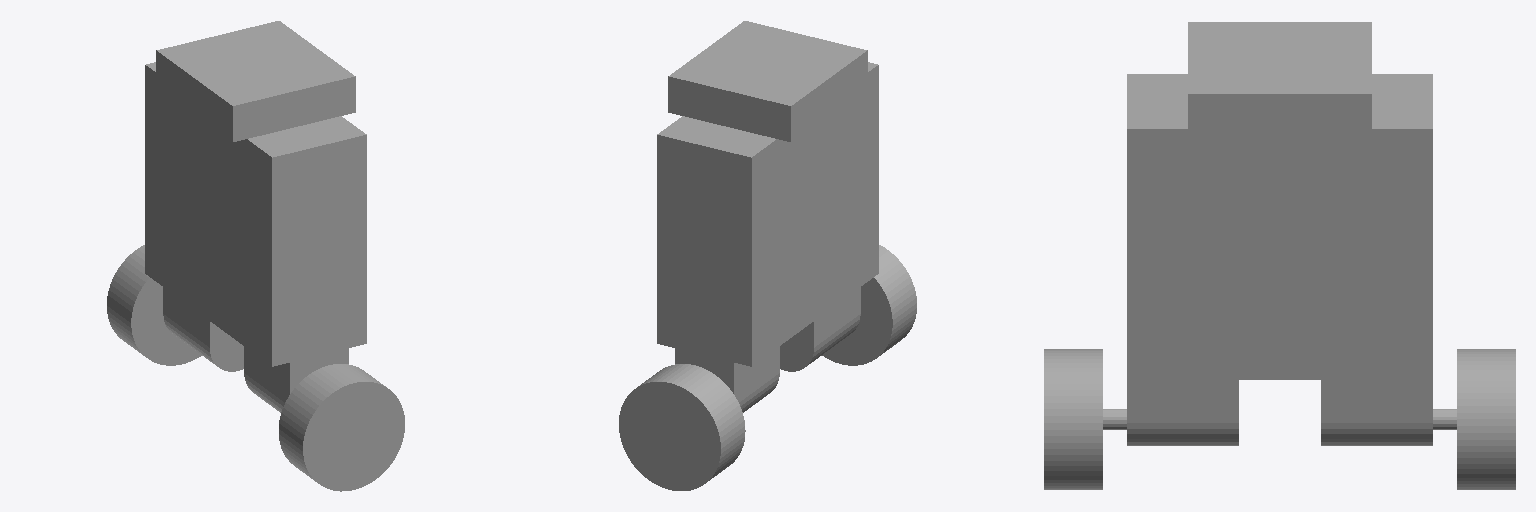
robot.urdf — balance_robot:
<?xml version="1.0" encoding="utf-8"?>
<!-- =================================================================================== -->
<!-- |    This document was autogenerated by xacro from balance_robot_simple.urdf.xacro | -->
<!-- |    EDITING THIS FILE BY HAND IS NOT RECOMMENDED                                 | -->
<!-- =================================================================================== -->
<robot name="balance_robot">
  <material name="silver">
    <color rgba="0.700 0.700 0.700 1.000"/>
  </material>
  <material name="Black">
    <color rgba="0.0 0.0 0.0 1.0"/>
  </material>
  <material name="Blue">
    <color rgba="0.0 0.0 0.8 1.0"/>
  </material>
  <material name="Green">
    <color rgba="0.0 0.8 0.0 1.0"/>
  </material>
  <material name="Gray">
    <color rgba="0.7 0.7 0.7 1.0"/>
  </material>
  <material name="DarkGray">
    <color rgba="0.3 0.3 0.3 1.0"/>
  </material>
  <material name="Red">
    <color rgba="0.8 0.0 0.0 1.0"/>
  </material>
  <material name="White">
    <color rgba="1.0 1.0 1.0 1.0"/>
  </material>
  <material name="Yellow">
    <color rgba="0.8 0.8 0.0 1.0"/>
  </material>
  <transmission name="left_wheel_joint_trans" type="SimpleTransmission">
    <type>transmission_interface/SimpleTransmission</type>
    <joint name="left_wheel_joint">
      <hardwareInterface>hardware_interface/VelocityJointInterface</hardwareInterface>
    </joint>
    <actuator name="left_wheel_motor">
      <mechanicalReduction>1</mechanicalReduction>
    </actuator>
  </transmission>
  <transmission name="right_wheel_joint_trans" type="SimpleTransmission">
    <type>transmission_interface/SimpleTransmission</type>
    <joint name="right_wheel_joint">
      <hardwareInterface>hardware_interface/VelocityJointInterface</hardwareInterface>
    </joint>
    <actuator name="right_wheel_motor">
      <mechanicalReduction>1</mechanicalReduction>
    </actuator>
  </transmission>
  <gazebo>
    <plugin filename="libgazebo_ros_control.so" name="gazebo_ros_control">
      <robotNamespace>/balance_robot</robotNamespace>
      <robotSimType>gazebo_ros_control/DefaultRobotHWSim</robotSimType>
      <legacyModeNS>true</legacyModeNS>
    </plugin>
  </gazebo>
  <gazebo>
    <plugin filename="libgazebo_ros_p3d.so" name="ground_truth">
      <frameName>world</frameName>
      <bodyName>base_link</bodyName>
      <topicName>/tracker</topicName>
      <updateRate>10.0</updateRate>
    </plugin>
  </gazebo>
  <gazebo reference="base_link">
    <material>Gazebo/Gray</material>
    <mu1>1.0</mu1>
    <mu2>1.0</mu2>
    <!--
  <selfCollide>true</selfCollide>
  <gravity>true</gravity>
  -->
  </gazebo>
  <gazebo reference="imu_link">
    <gravity>true</gravity>
    <sensor name="imu_sensor" type="imu">
      <always_on>true</always_on>
      <update_rate>100</update_rate>
      <visualize>true</visualize>
      <topic>data</topic>
      <plugin filename="libgazebo_ros_imu_sensor.so" name="imu_plugin">
        <topicName>imu/data</topicName>
        <bodyName>imu_link</bodyName>
        <updateRateHZ>10.0</updateRateHZ>
        <gaussianNoise>0.0</gaussianNoise>
        <xyzOffset>0 0 0</xyzOffset>
        <rpyOffset>0 0 0</rpyOffset>
        <frameName>imu_link</frameName>
      </plugin>
      <pose>0 0 0 0 0 0</pose>
    </sensor>
  </gazebo>
  <gazebo reference="left_wheel">
    <material>Gazebo/Black</material>
    <mu1>2.5</mu1>
    <mu2>2.5</mu2>
    <kp value="50000"/>
    <kd value="10"/>
    <!--
  <selfCollide>true</selfCollide>
  -->
  </gazebo>
  <gazebo reference="right_wheel">
    <material>Gazebo/Black</material>
    <mu1>2.5</mu1>
    <mu2>2.5</mu2>
    <kp value="50000"/>
    <kd value="10"/>
    <!--
  <selfCollide>true</selfCollide>
  -->
  </gazebo>
  <link name="base_link"/>
  <link name="body_link">
    <inertial>
      <!-- temp -->
      <origin rpy="0 0 0" xyz="4.1684108266638076e-05 0.000497123586462592 0.1077879171161801"/>
      <!-- initial mass -> mass value="3.047016939610255"/-->
      <mass value="3.047016939610255"/>
      <inertia ixx="0.013885" ixy="0.0" ixz="-5e-06" iyy="0.0102" iyz="1.2e-05" izz="0.00539"/>
    </inertial>
    <visual>
      <origin rpy="0 0 0" xyz="0 0 0"/>
      <geometry>
        <mesh filename="package://balance_robot_description/meshes/base_link_simple_body_origin.stl" scale="0.001 0.001 0.001"/>
      </geometry>
      <material name="silver"/>
    </visual>
    <collision>
      <origin rpy="0 0 0" xyz="0 0 0"/>
      <geometry>
        <mesh filename="package://balance_robot_description/meshes/base_link_simple_body_origin.stl" scale="0.001 0.001 0.001"/>
      </geometry>
    </collision>
  </link>
  <link name="imu_link"/>
  <link name="left_wheel">
    <inertial>
      <!-- temp -->
      <origin rpy="0 0 0" xyz="5.232905343968532e-16 0.013499725279272082 -6.175615574477433e-16"/>
      <mass value="0.700600998578198"/>
      <inertia ixx="0.000227" ixy="0.0" ixz="0.0" iyy="0.000369" iyz="-0.0" izz="0.000227"/>
    </inertial>
    <visual>
      <origin rpy="0 0 0" xyz="0 0 0"/>
      <geometry>
        <mesh filename="package://balance_robot_description/meshes/wheel_tire_simple_origin.stl" scale="0.001 0.001 0.001"/>
      </geometry>
      <material name="silver"/>
    </visual>
    <collision>
      <origin rpy="0 0 0" xyz="0 0 0"/>
      <geometry>
        <mesh filename="package://balance_robot_description/meshes/wheel_tire_simple_origin.stl" scale="0.001 0.001 0.001"/>
      </geometry>
    </collision>
  </link>
  <link name="right_wheel">
    <inertial>
      <!-- temp -->
      <origin rpy="0 0 0" xyz="2.0930055342611735e-15 -0.013500274720727637 6.661338147750939e-16"/>
      <mass value="0.700600998578198"/>
      <inertia ixx="0.000227" ixy="-0.0" ixz="-0.0" iyy="0.000369" iyz="-0.0" izz="0.000227"/>
    </inertial>
    <visual>
      <origin rpy="0 0 0" xyz="0 0 0"/>
      <geometry>
        <mesh filename="package://balance_robot_description/meshes/wheel_tire_simple_origin.stl" scale="0.001 0.001 0.001"/>
      </geometry>
      <material name="silver"/>
    </visual>
    <collision>
      <origin rpy="0 0 0" xyz="0 0 0"/>
      <geometry>
        <mesh filename="package://balance_robot_description/meshes/wheel_tire_simple_origin.stl" scale="0.001 0.001 0.001"/>
      </geometry>
    </collision>
  </link>
  <joint name="base_joint" type="fixed">
    <parent link="base_link"/>
    <child link="body_link"/>
    <origin rpy="0 0 0" xyz="0 0 0"/>
  </joint>
  <joint name="imu_joint" type="fixed">
    <parent link="base_link"/>
    <child link="imu_link"/>
    <origin rpy="0 0 0" xyz="0 0 0.1775"/>
  </joint>
  <joint name="left_wheel_joint" type="continuous">
    <origin rpy="0 0 3.14159" xyz="0.0 -0.081 0.0"/>
    <parent link="base_link"/>
    <child link="left_wheel"/>
    <axis xyz="0.0 1.0 0.0"/>
    <limit effort="1.5" velocity="10.47"/>
    <!-- vel->rad/s effort->N*m -->
    <dynamics damping="0.1"/>
  </joint>
  <joint name="right_wheel_joint" type="continuous">
    <origin rpy="0 0 0" xyz="0.0 0.081 0.0"/>
    <parent link="base_link"/>
    <child link="right_wheel"/>
    <axis xyz="0.0 1.0 0.0"/>
    <limit effort="1.5" velocity="10.47"/>
    <!-- vel->rad/s effort->N*m -->
    <dynamics damping="0.1"/>
  </joint>
</robot>

--- Facts derived from the render (not from the file) ---
Views: 3 orthographic renders of the robot side by side, from view 1: azimuth 30°, elevation 25°; view 2: azimuth 150°, elevation 25°; view 3: azimuth 270°, elevation 25°.
Model balance_robot with 5 links and 4 joints (2 continuous, 2 fixed), rooted at base_link, posed all joints at 0.
Links seen in each view (by area): view 1: body_link, left_wheel, right_wheel; view 2: body_link, right_wheel, left_wheel; view 3: body_link, left_wheel, right_wheel.
Boxes of the visible links, <box> form: body_link: <box>145,21,366,412</box>; left_wheel: <box>279,364,404,491</box>; right_wheel: <box>107,245,201,365</box>; body_link: <box>657,21,878,412</box>; right_wheel: <box>619,364,745,490</box>; left_wheel: <box>822,245,916,365</box>; body_link: <box>1103,22,1456,445</box>; left_wheel: <box>1044,349,1102,489</box>; right_wheel: <box>1457,349,1515,489</box>.
Size in the robot's own frame: 0.078 by 0.216 by 0.2155 metres.
Meshes: 2 distinct files referenced, 3 mesh visuals loaded (2 binary STL).